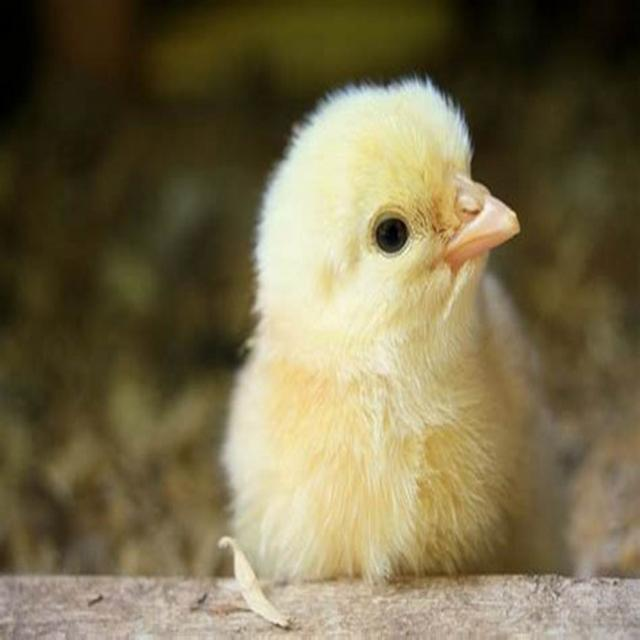poussin: (232, 76, 526, 596)
